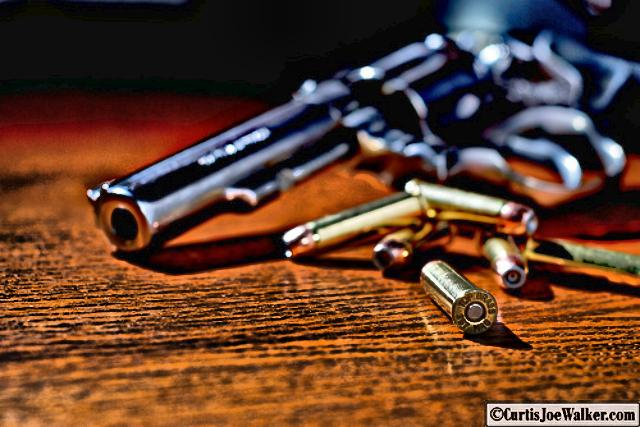pistol: (82, 28, 618, 258)
